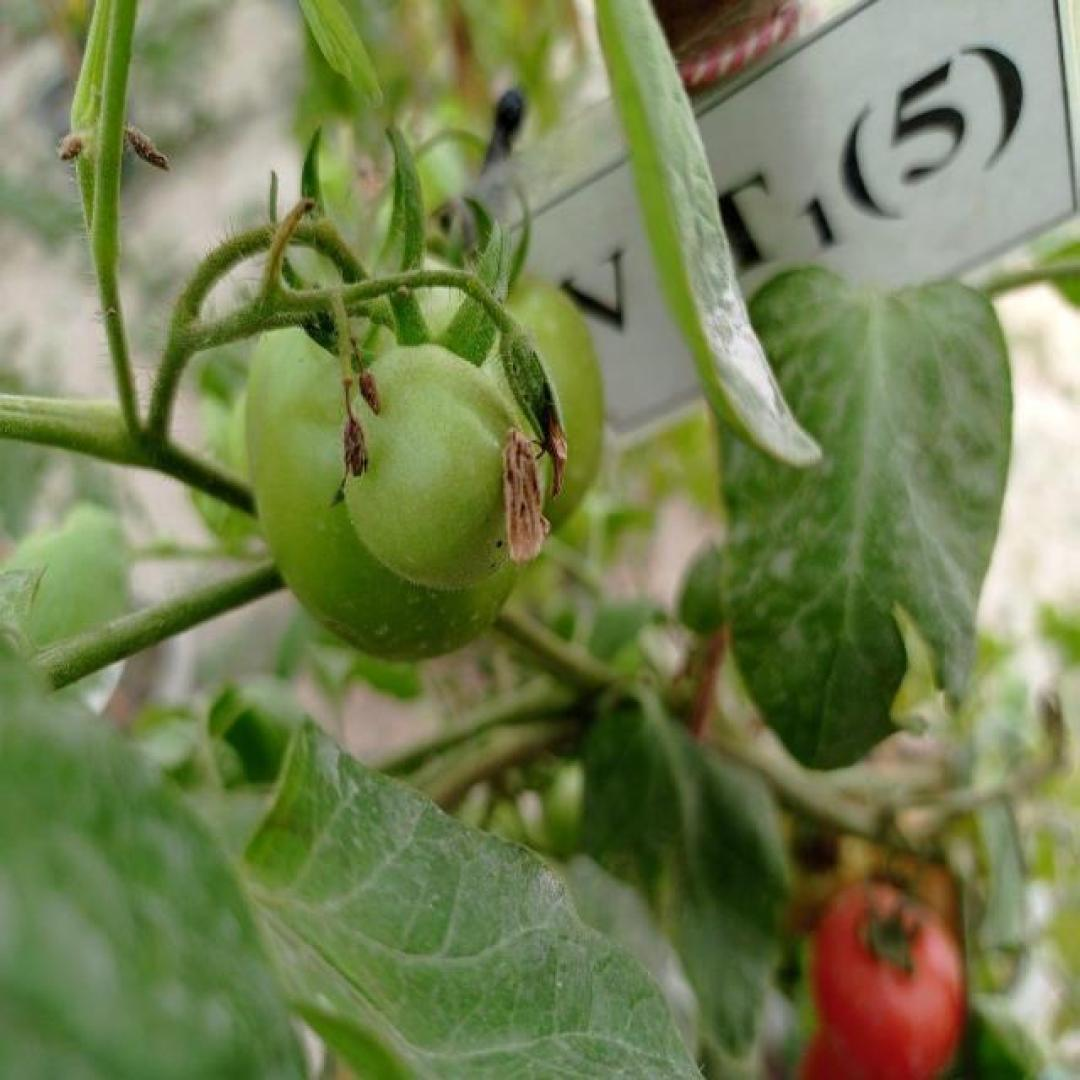mentah: (239, 270, 522, 662), (339, 340, 532, 592)
